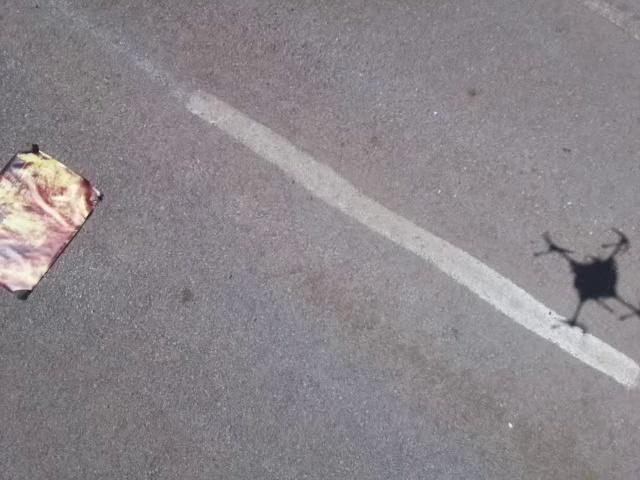fire-poster: (0, 142, 104, 300)
